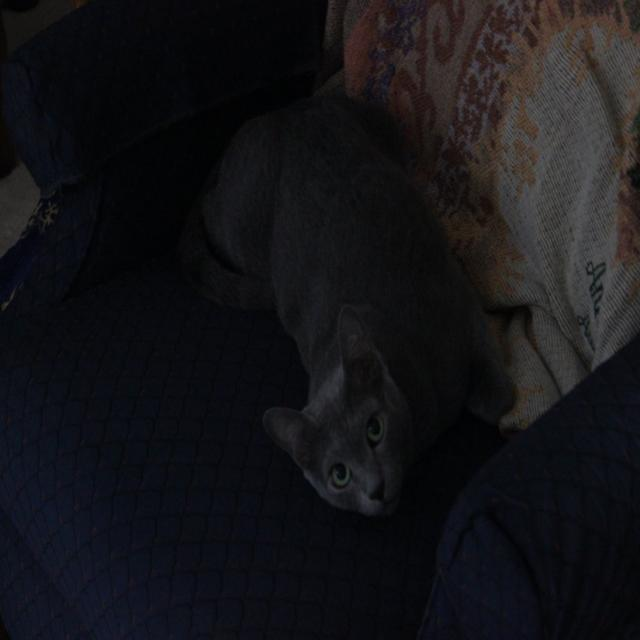Cat: (186, 103, 519, 499)
chair: (8, 3, 640, 640)
